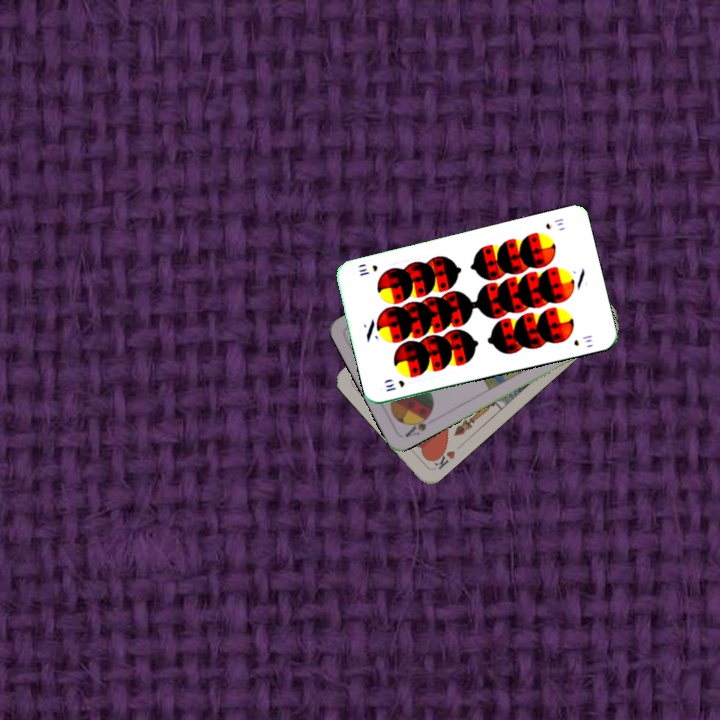HK: (427, 443, 458, 472)
S10: (381, 376, 407, 394), (541, 214, 566, 232)
SA: (401, 409, 434, 440)
